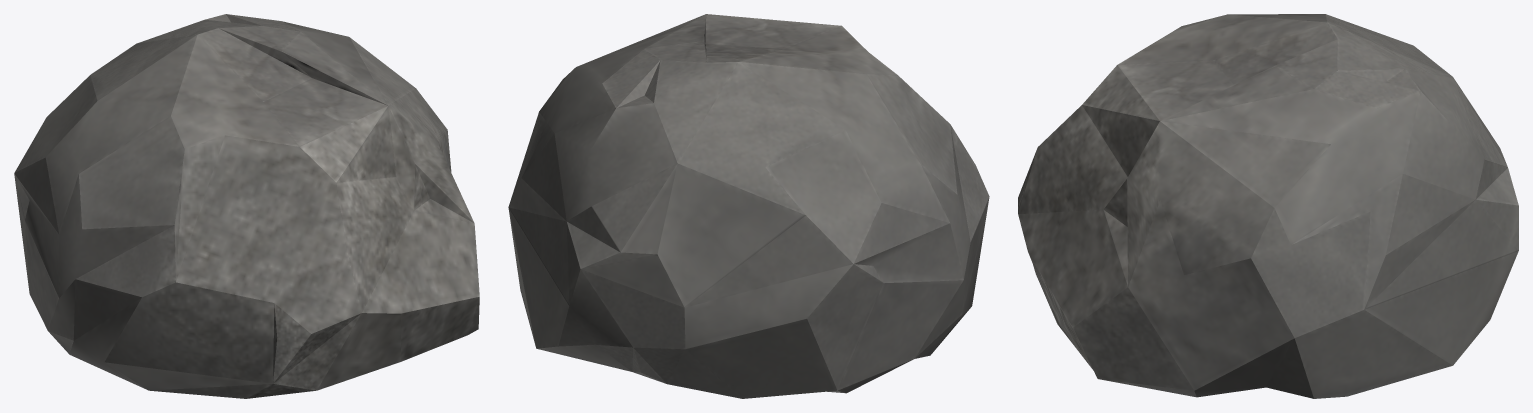
3 views of the same model, side by side, from view 1: azimuth 30°, elevation 25°; view 2: azimuth 150°, elevation 25°; view 3: azimuth 270°, elevation 25° (orthographic). The views are drawn at different scales.
Parts seen in each view (by area): view 1: output_unwrapped; view 2: output_unwrapped; view 3: output_unwrapped.
Boxes of the visible parts, x1,y1,x2,y2 form: output_unwrapped: (14,14,479,398); output_unwrapped: (508,14,989,398); output_unwrapped: (1018,14,1518,398).
Bounding box in the file's own units: 1.94 × 1.23 × 1.99.
1 material, 1 textured.
